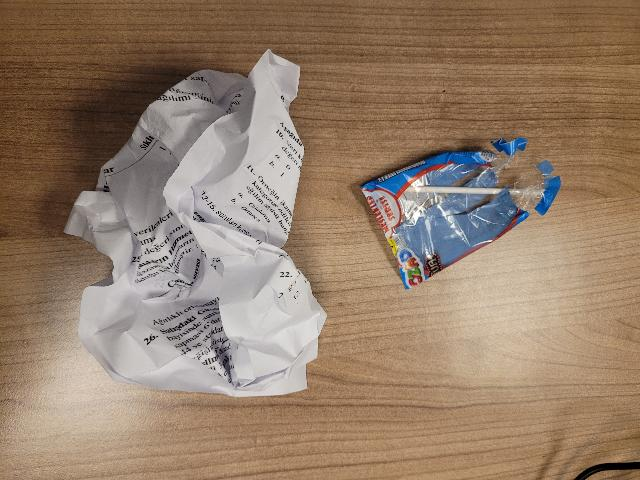Kagit: (62, 50, 328, 399)
Plastik: (352, 132, 563, 290)
